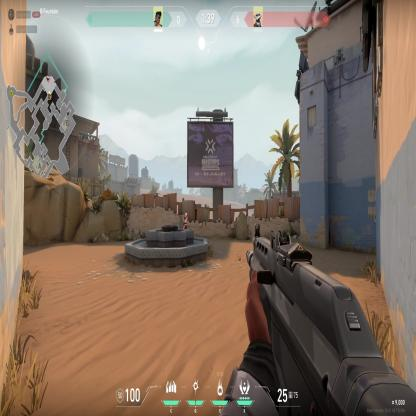enemy: (182, 212, 188, 229)
